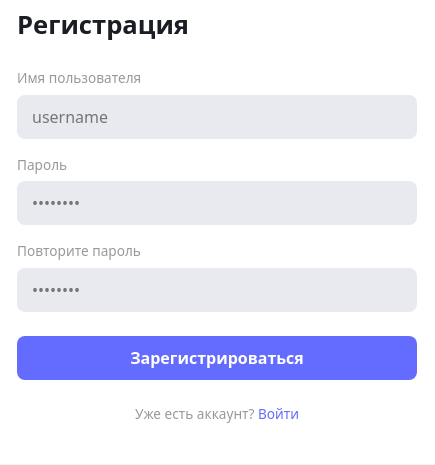
Test case: SignUpPage › shows username error from API response
The width and height of the screenshot is (435, 465).
In the field with placeholder "username": (217, 117) [17, 95, 417, 139], type "alice"
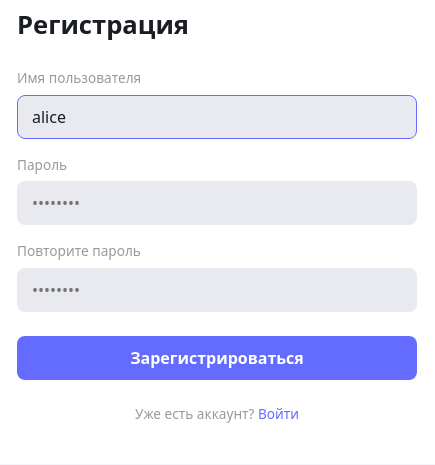
In the 1st password field with placeholder "••••••••": (217, 203) [17, 181, 417, 225], type "pass123"
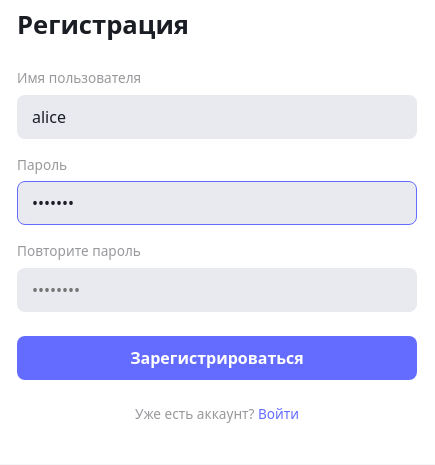
In the password field with placeholder "••••••••": (217, 290) [17, 268, 417, 312], type "pass123"
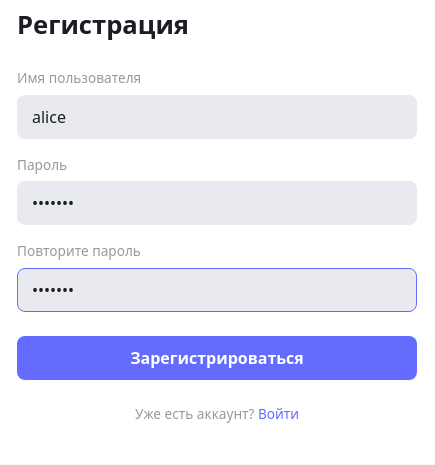
Click the button "Зарегистрироваться": (217, 358) [17, 336, 417, 380]
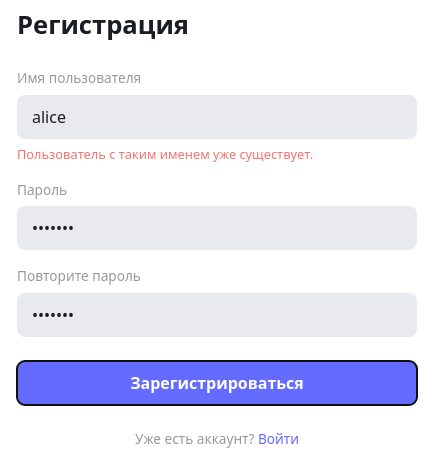
Result: the text "Пользователь с таким именем уже существует." is shown at [17, 145, 313, 163]
